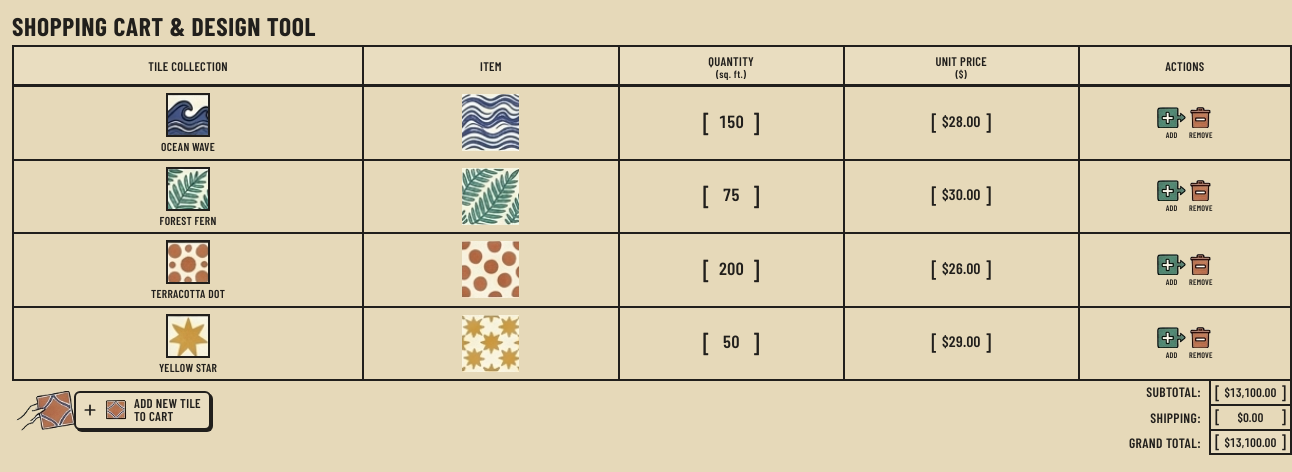
<ShoppingCart /> › removes items and charges shipping for small orders
Click the button "Remove" in the row of "$28.00". click: (1201, 123)
box: [1189,107,1213,139]
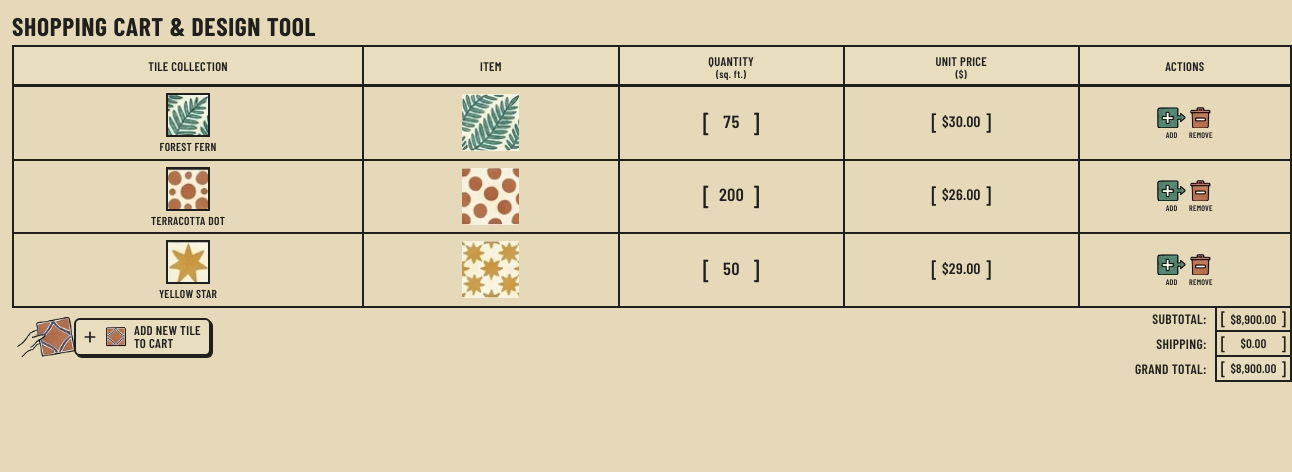
Click the button "Remove" in the row of "$30.00". click: (1201, 123)
box: [1189,107,1213,139]
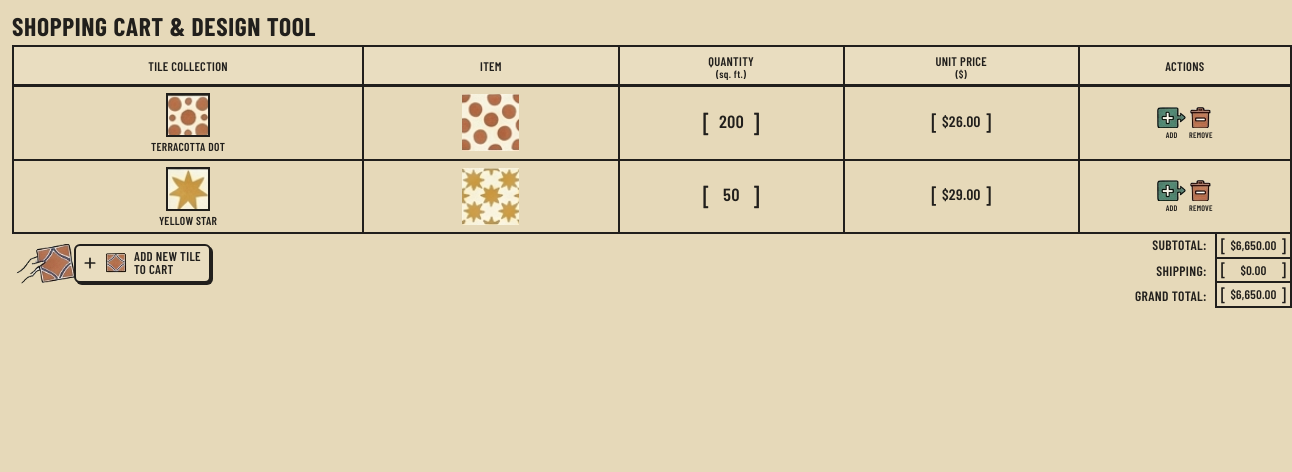
Click the button "Remove" in the row of "$26.00". click: (1201, 123)
box: [1189,107,1213,139]
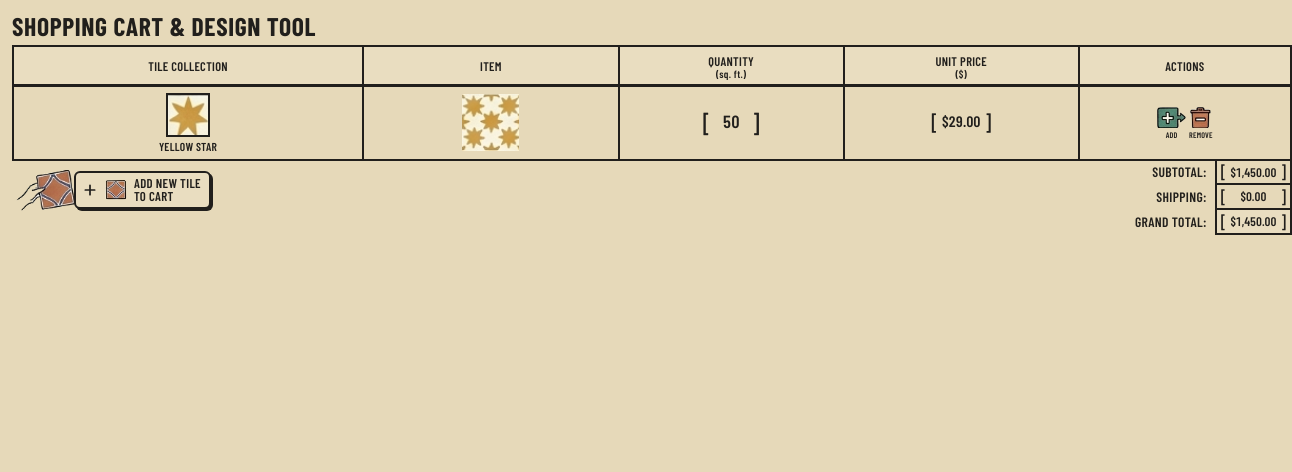
Replace the text in the field named "Yellow Star quantity in square feet" with "5". click: (731, 122)
box: [715,108,748,136]
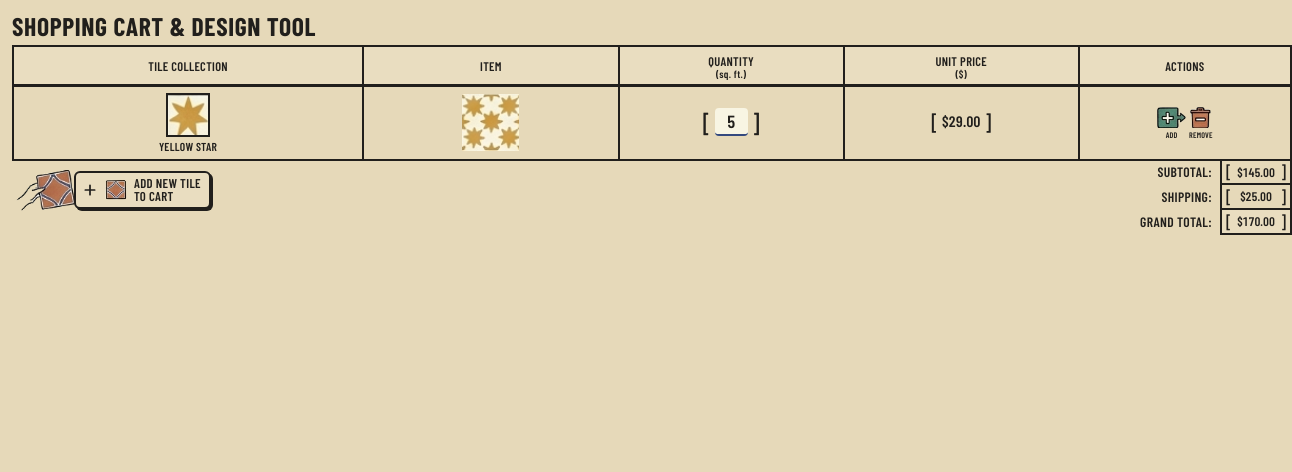
Expected: the text "Ocean Wave" is not shown
Now the element with test id "cart-shipping" shows "$25.00", box [1240,189,1272,203]
Now the element with test id "cart-grand-total" shows "$170.00", box [1237,214,1275,228]
